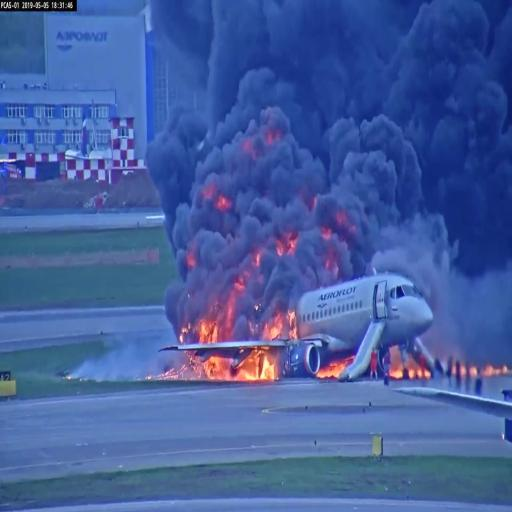fire: (196, 356, 286, 378)
smoke: (158, 90, 318, 282), (394, 6, 503, 184), (314, 124, 428, 256)
